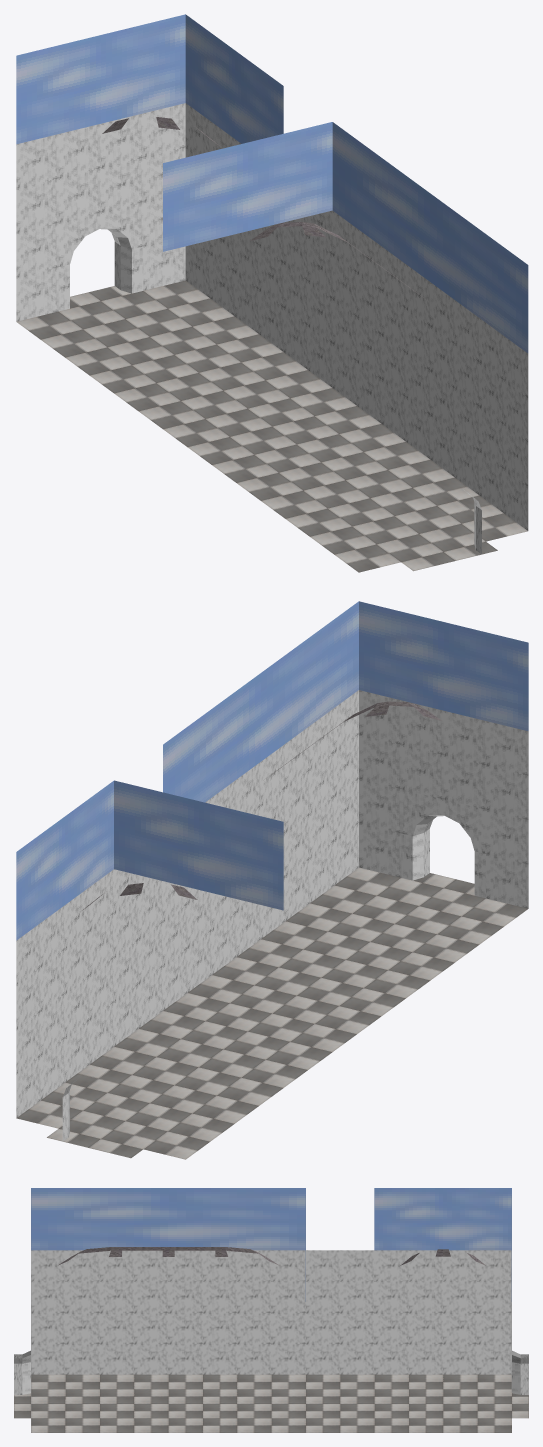
Rendered from Hallway15.glb.
3 views of the same model, one above another, from view 1: azimuth 30°, elevation 25°; view 2: azimuth 150°, elevation 25°; view 3: azimuth 270°, elevation 25° (orthographic). The views are drawn at different scales.
Visible parts, largest first — view 1: Walls.014, Floor.013, Sky.013, Ceiling.013; view 2: Walls.014, Floor.013, Sky.013, Ceiling.013; view 3: Walls.014, Floor.013, Sky.013, Ceiling.013.
Part boxes in pixels (<box>): Walls.014: <box>16,103,528,554</box>; Floor.013: <box>16,280,527,572</box>; Sky.013: <box>16,14,528,353</box>; Ceiling.013: <box>102,117,423,297</box>; Walls.014: <box>16,690,528,1141</box>; Floor.013: <box>16,867,527,1159</box>; Sky.013: <box>16,601,528,940</box>; Ceiling.013: <box>82,701,441,910</box>; Walls.014: <box>14,1250,528,1432</box>; Floor.013: <box>14,1374,528,1432</box>; Sky.013: <box>31,1188,511,1301</box>; Ceiling.013: <box>58,1247,485,1265</box>.
Bounding box in the file's own units: 4.06 × 6 × 15.
4 materials, 4 textured.
